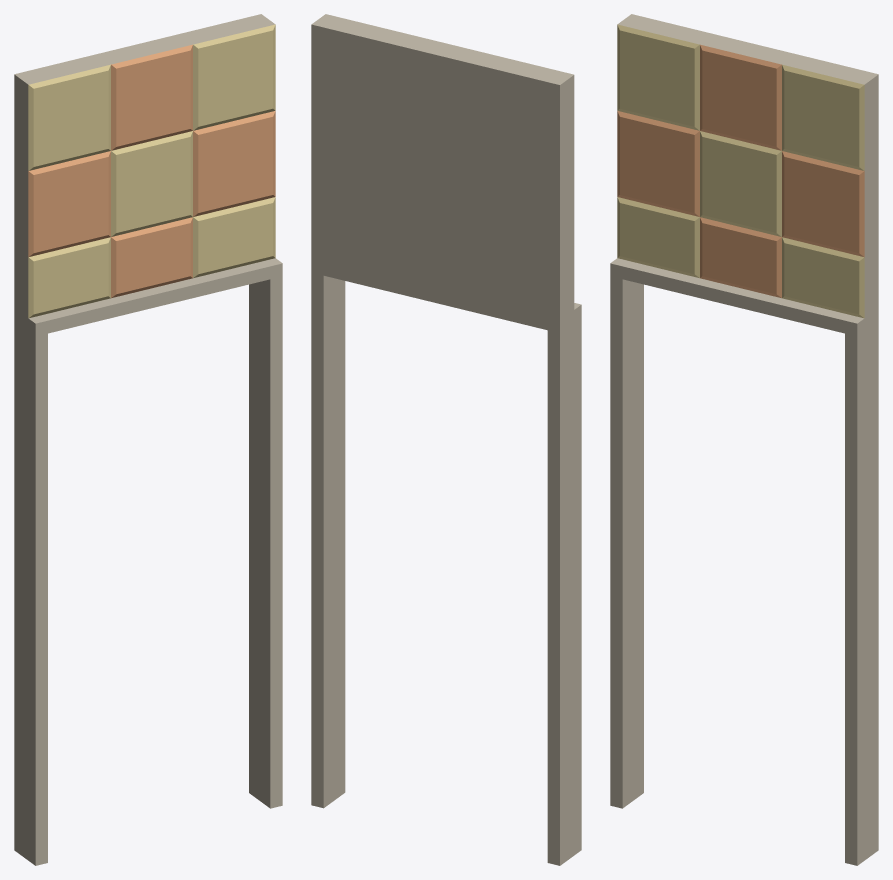
File: Mesh_DoorHoleCeramic_P2.fbx
3 views of the same model, side by side, from view 1: azimuth 30°, elevation 25°; view 2: azimuth 150°, elevation 25°; view 3: azimuth 330°, elevation 25° (orthographic).
Visible parts, largest first — view 1: Mesh_DoorHoleCeramic_P2; view 2: Mesh_DoorHoleCeramic_P2; view 3: Mesh_DoorHoleCeramic_P2.
Part boxes in pixels (box(x1,y1,x2,y2)): Mesh_DoorHoleCeramic_P2: box(14, 14, 282, 865); Mesh_DoorHoleCeramic_P2: box(311, 14, 581, 865); Mesh_DoorHoleCeramic_P2: box(610, 14, 878, 865).
Size of the model in its own units: 1 by 3 by 0.15.
